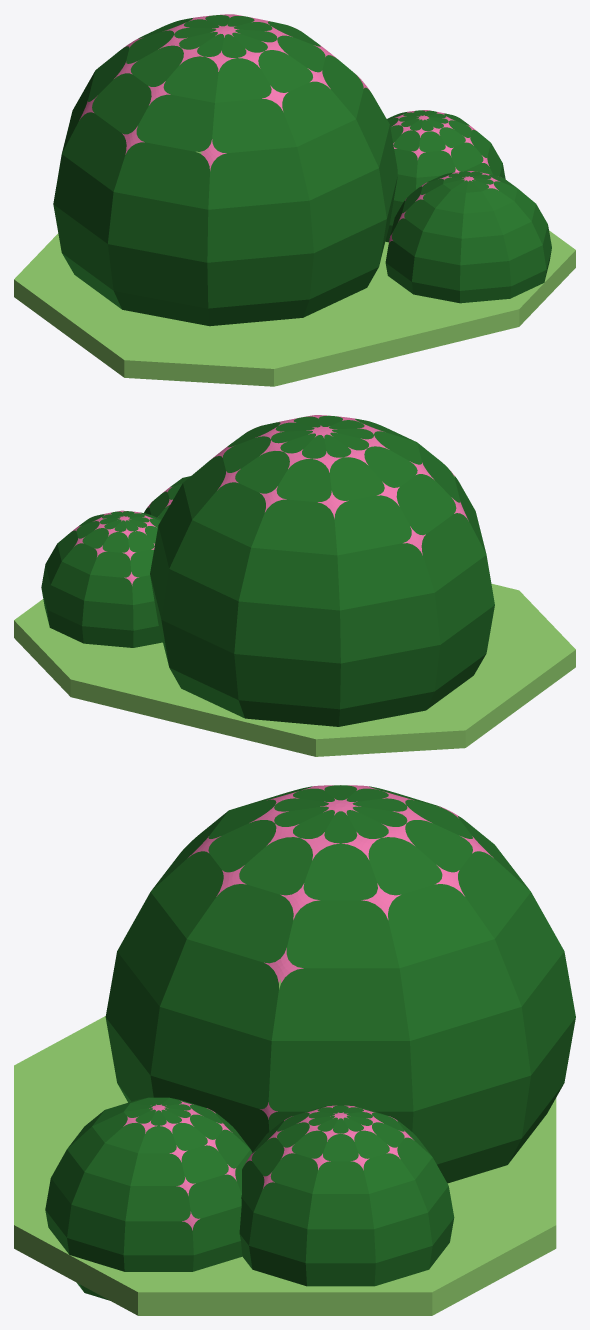
The model's file is bush.fbx.
3 views of the same model, one above another, from view 1: azimuth 30°, elevation 25°; view 2: azimuth 150°, elevation 25°; view 3: azimuth 270°, elevation 25° (orthographic). The views are drawn at different scales.
Parts seen in each view (by area): view 1: Sphere.001; view 2: Sphere.001; view 3: Sphere.001.
Boxes of the visible parts, x1=… form: Sphere.001: x1=14, y1=14, x2=575, y2=386; Sphere.001: x1=14, y1=415, x2=575, y2=756; Sphere.001: x1=14, y1=785, x2=575, y2=1315.
Bounding box in the file's own units: 296 × 165 × 239.
